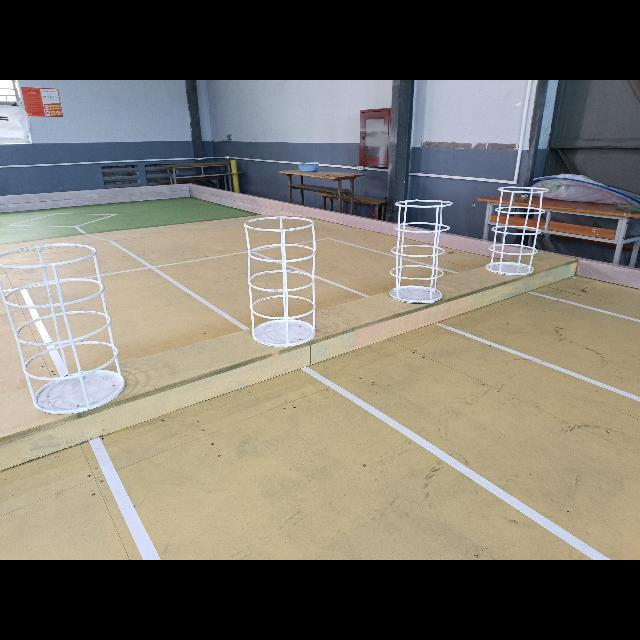S: (0, 243, 126, 415), (245, 218, 318, 349), (389, 200, 453, 305), (485, 185, 545, 279)
